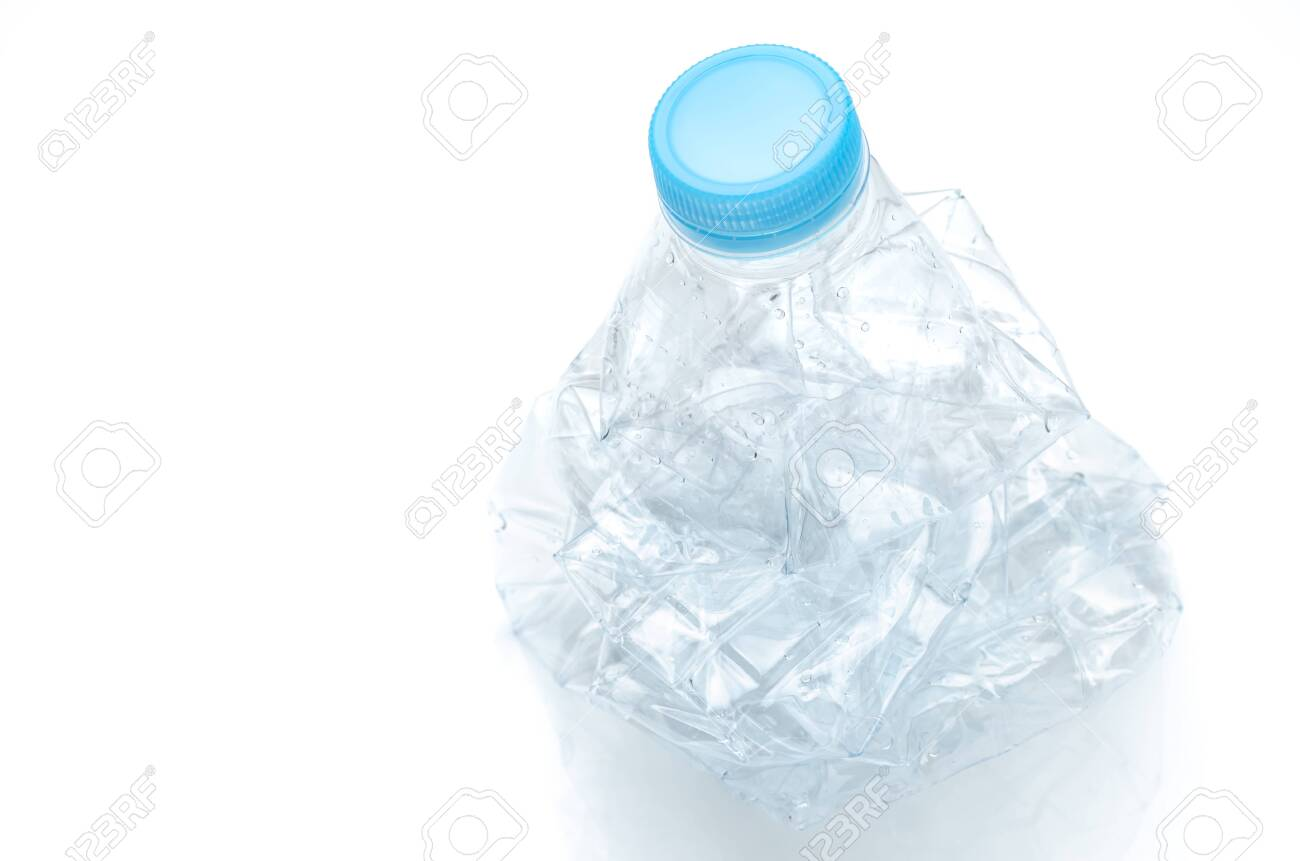plastic_bottle: (398, 13, 1258, 861)
